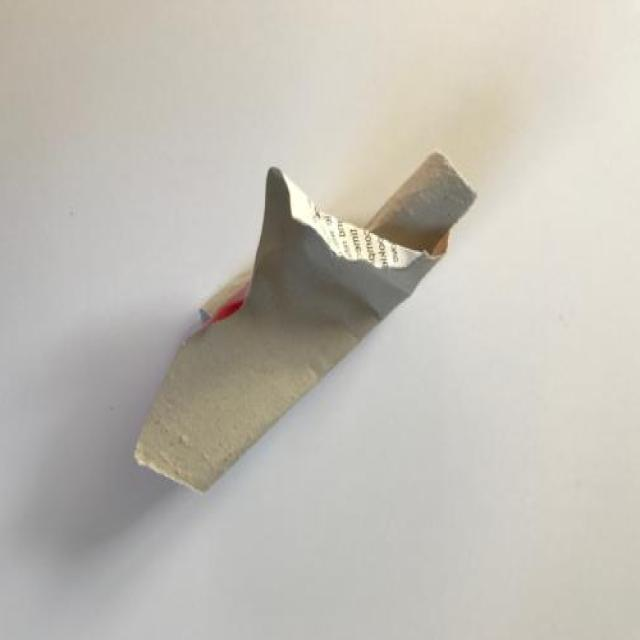kertas: (131, 152, 480, 497)
